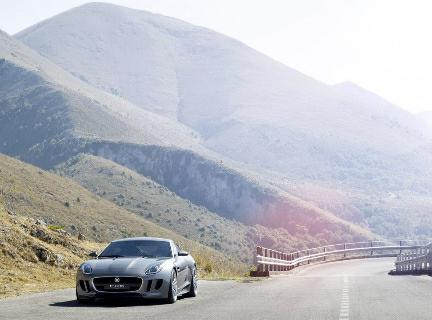捷豹-C-X16: (71, 234, 202, 304)
